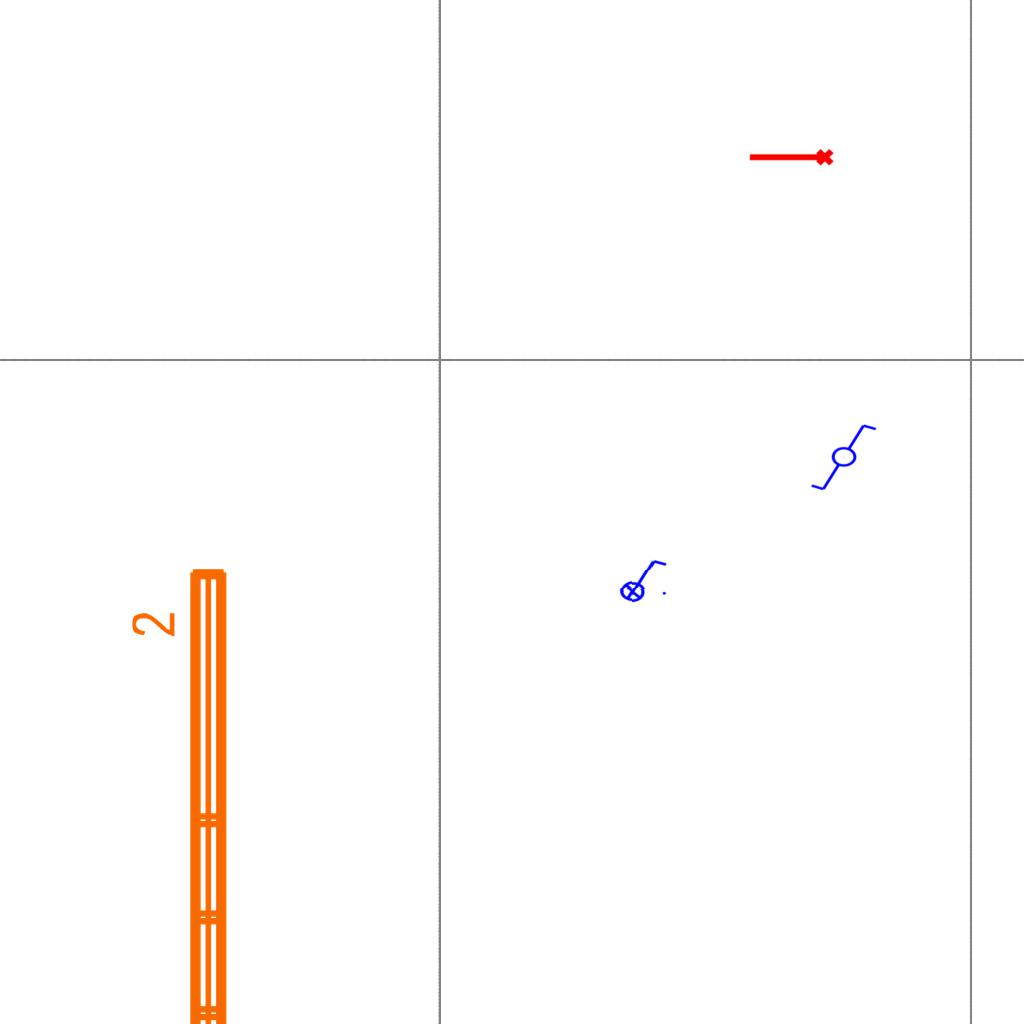ASR_Ansaugoeffnung: (747, 147, 835, 170)
Ambulanz_Pendelleuchte_LED: (127, 560, 239, 1024)
Ausschalter_beleuchtet: (612, 553, 672, 605)
Wechselschalter: (809, 422, 887, 494)
